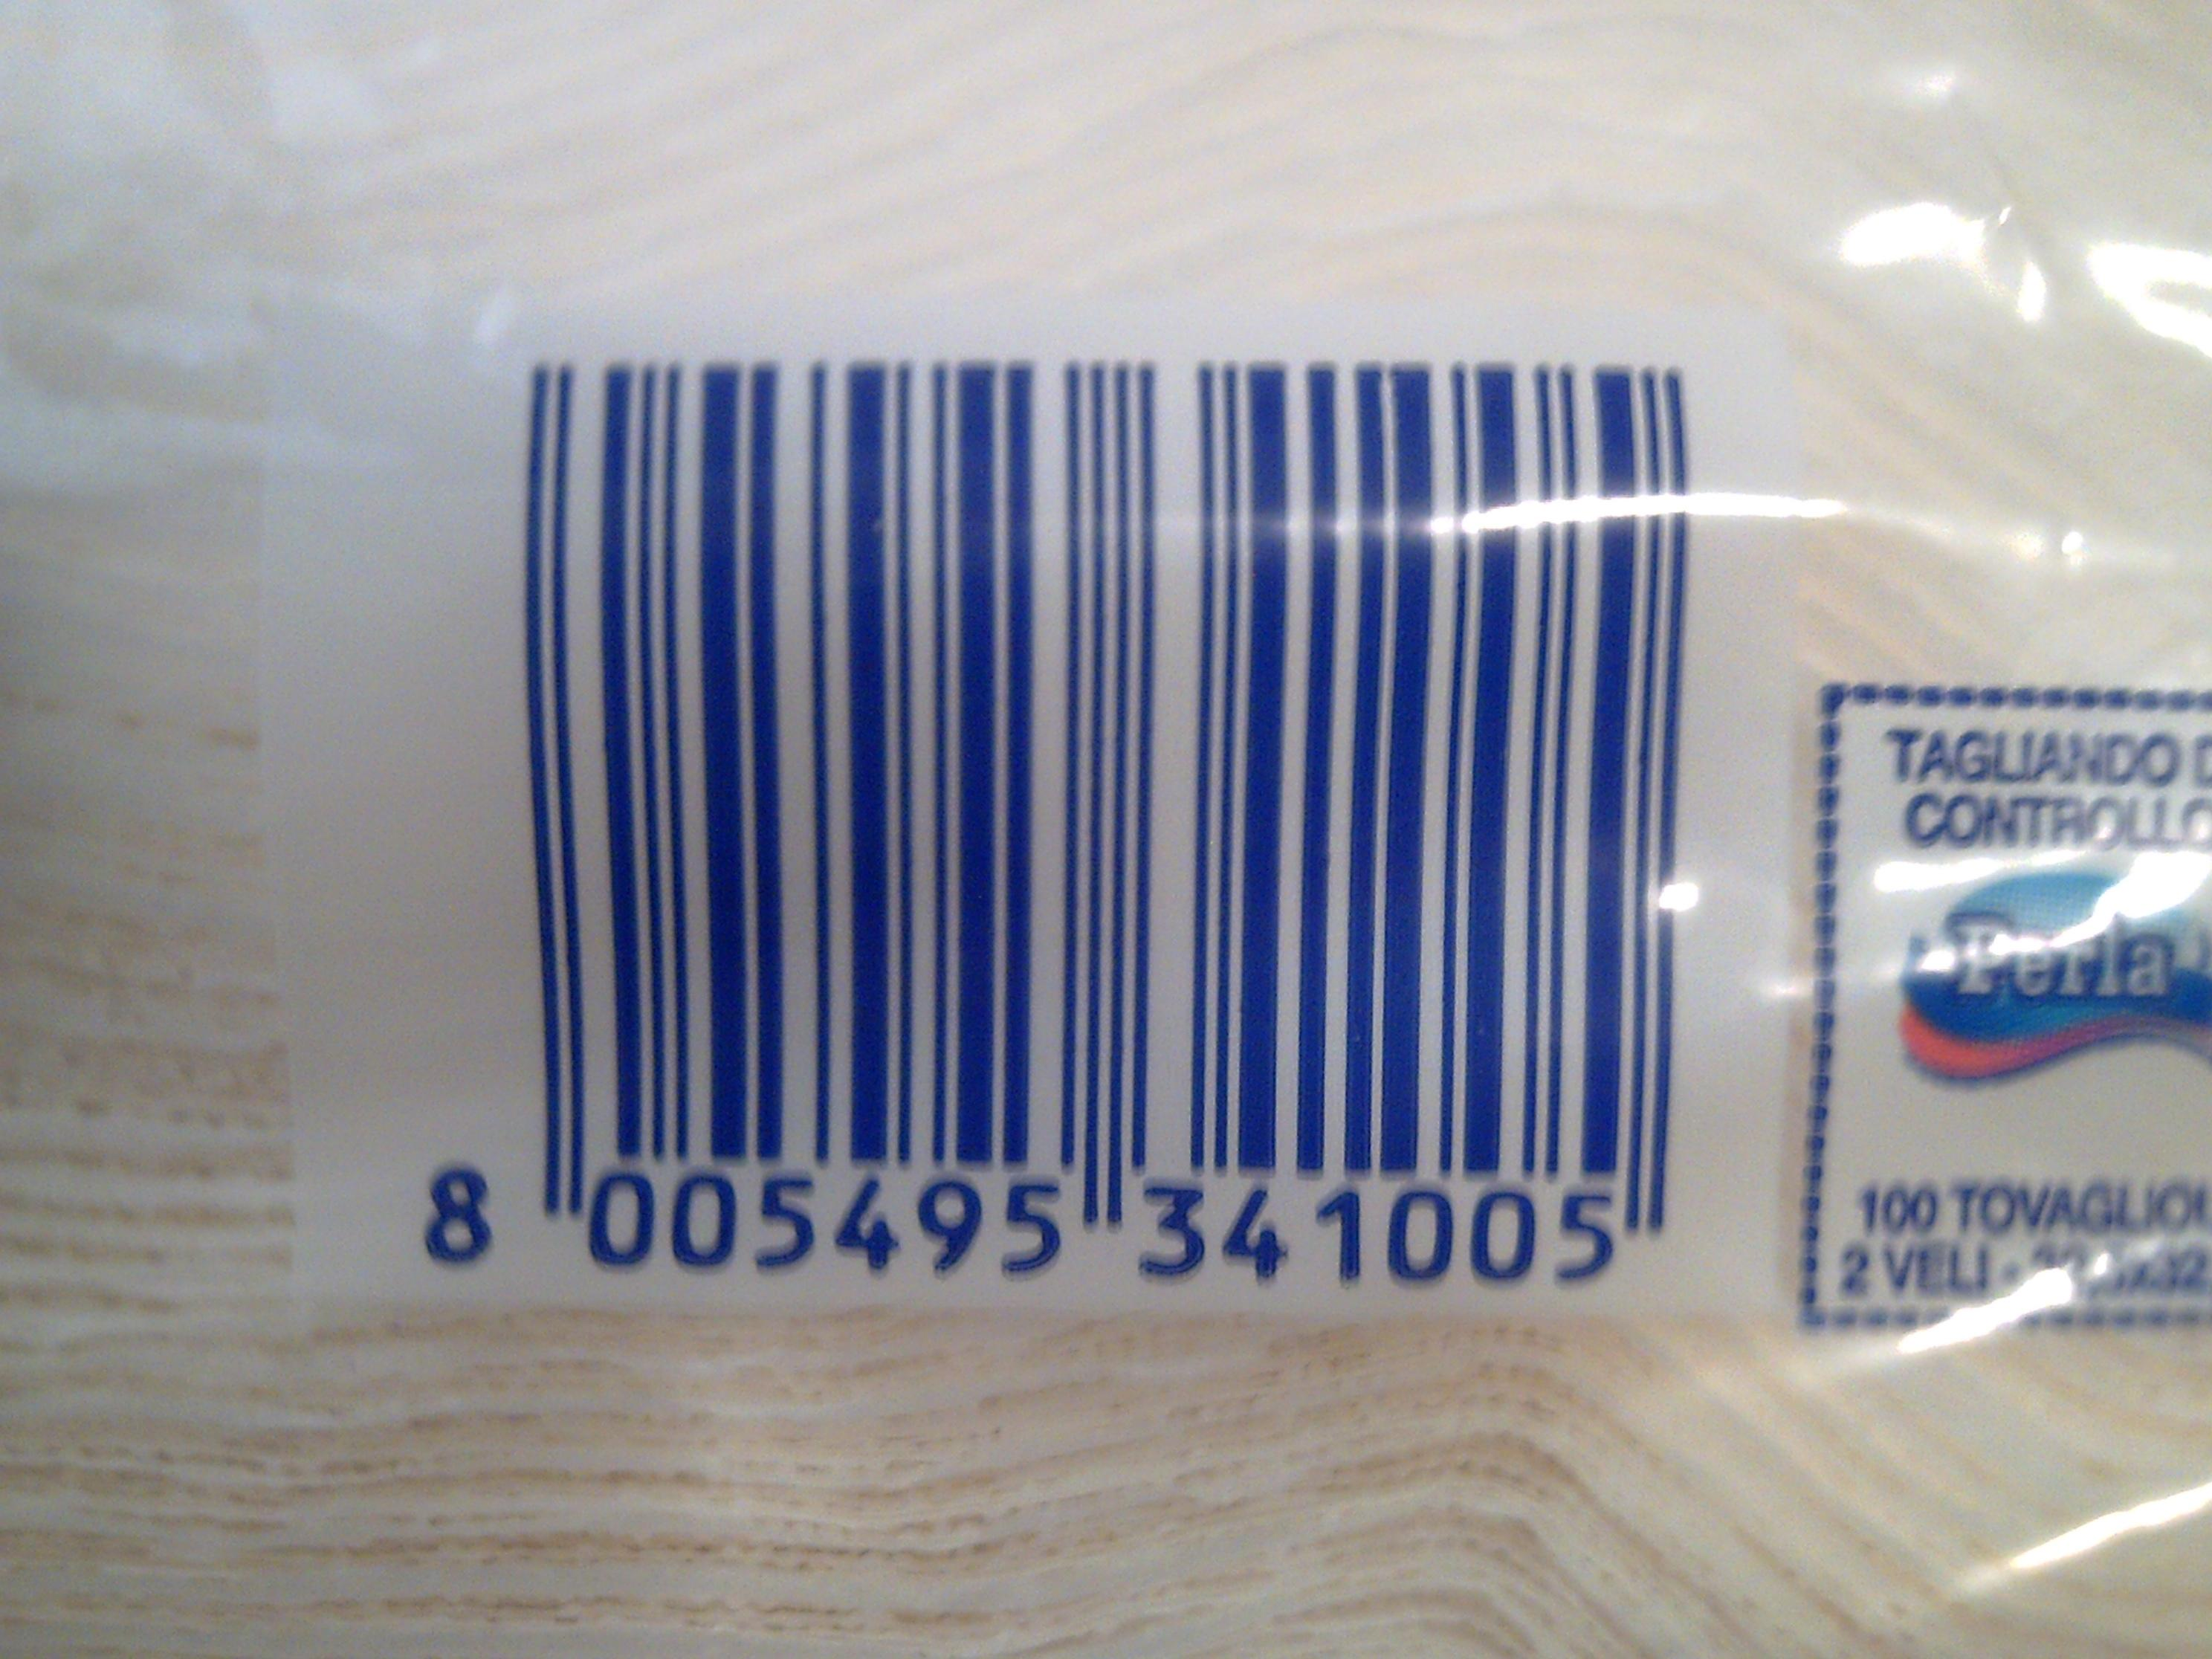barcode: (294, 291, 1787, 1300)
